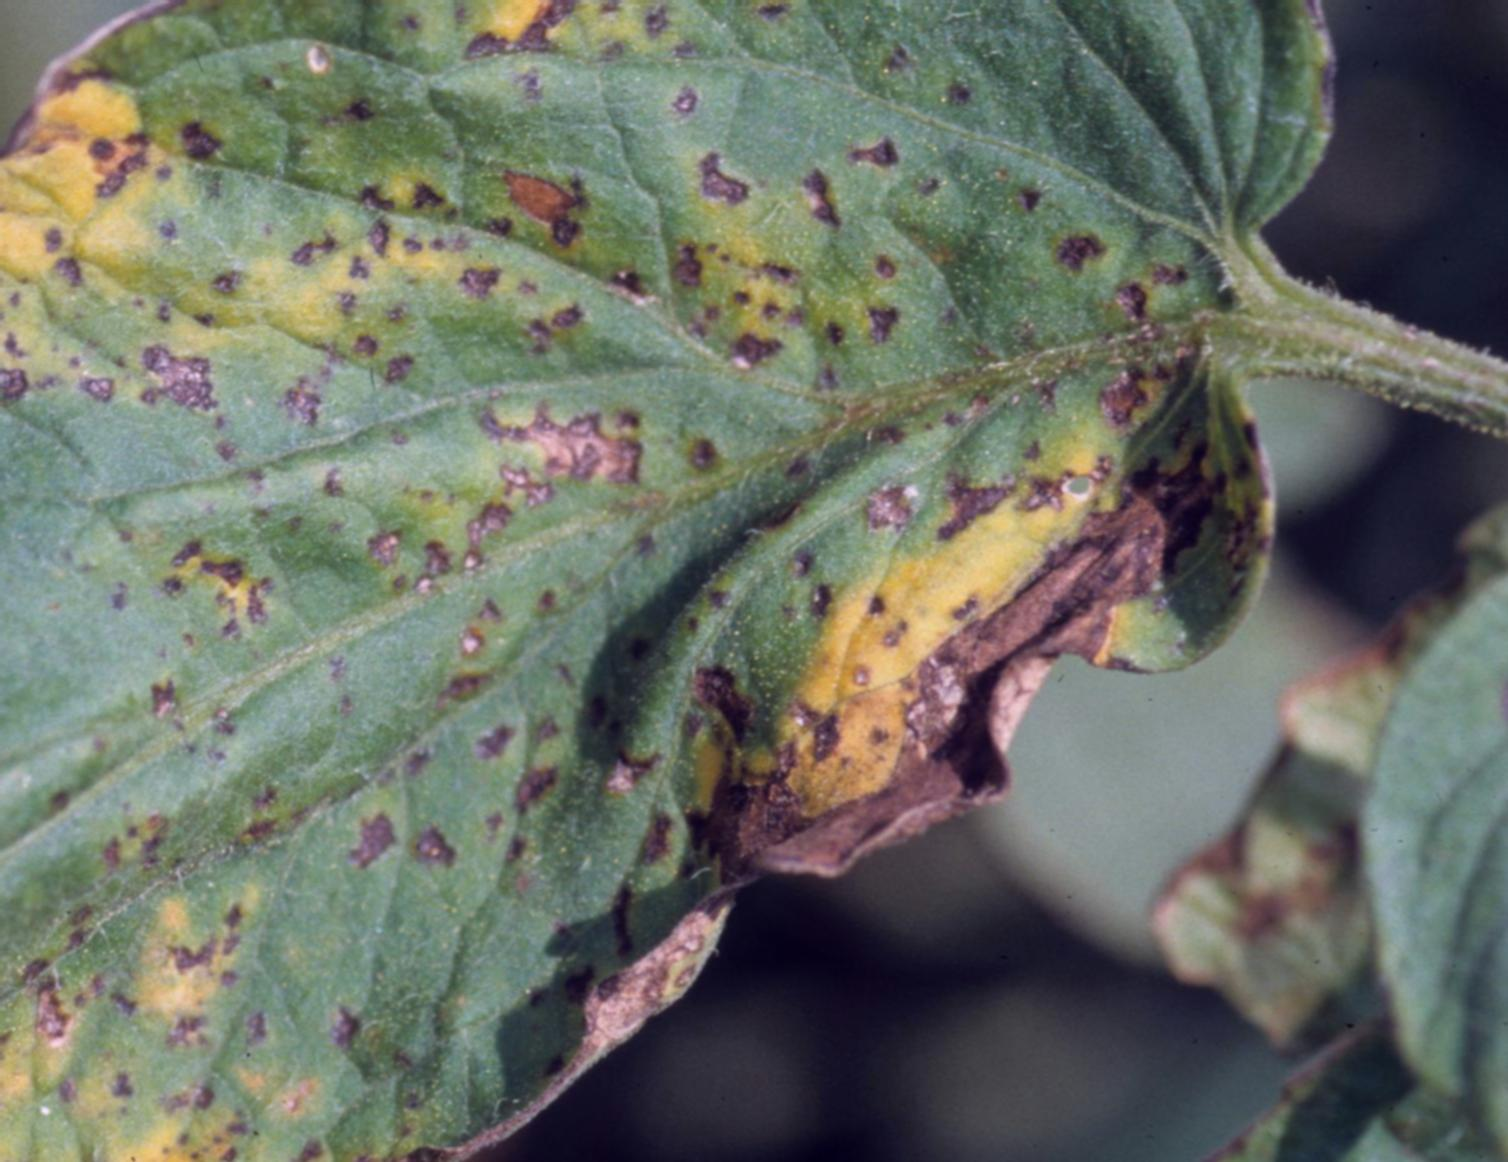Tomato leaf bacterial spot: (0, 0, 1499, 1162)
